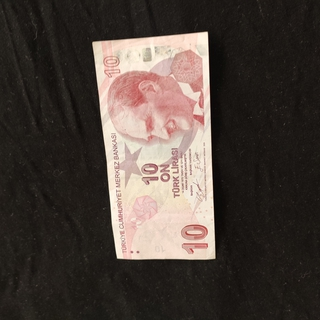10TLFront: (90, 30, 217, 260)
